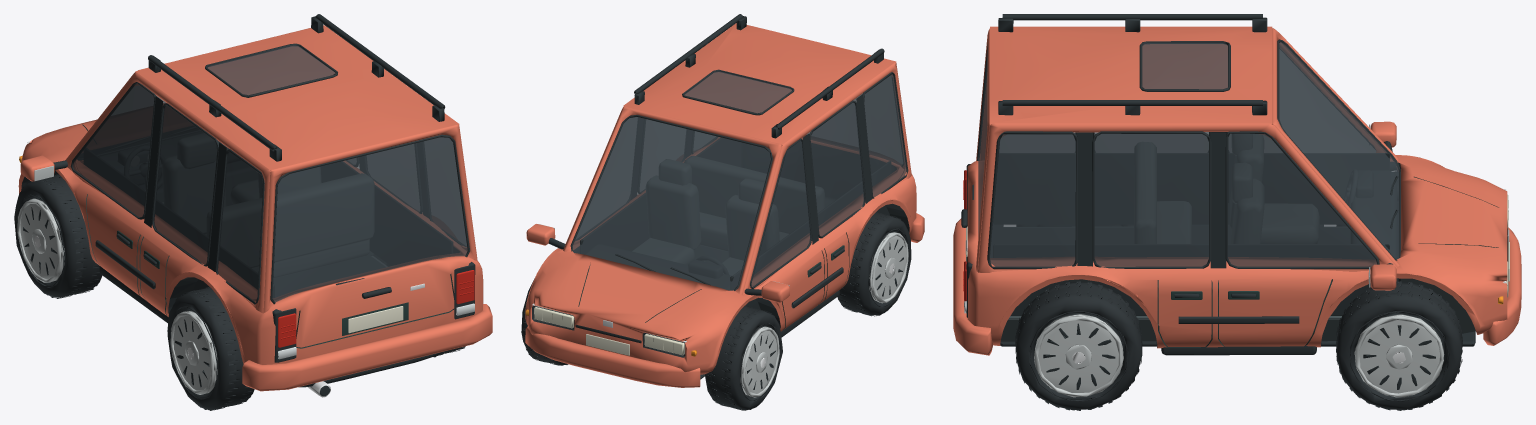
Rendered from picnic_lod2.fbx.
3 views of the same model, side by side, from view 1: azimuth 30°, elevation 25°; view 2: azimuth 150°, elevation 25°; view 3: azimuth 270°, elevation 25° (orthographic). The views are drawn at different scales.
Visible parts, largest first — view 1: Body, Wheel_FL_Mesh, Wheel_RL_Mesh; view 2: Body, Wheel_FL_Mesh, Wheel_RL_Mesh, Wheel_FR_Mesh; view 3: Body, Wheel_RR_Mesh, Wheel_FR_Mesh.
Part boxes in pixels (x1,y1,x2,y2): Body: [18, 14, 492, 397]; Wheel_FL_Mesh: [14, 174, 102, 298]; Wheel_RL_Mesh: [167, 286, 254, 410]; Body: [525, 14, 924, 387]; Wheel_FL_Mesh: [704, 306, 782, 410]; Wheel_RL_Mesh: [837, 212, 911, 316]; Wheel_FR_Mesh: [521, 278, 568, 365]; Body: [953, 14, 1521, 355]; Wheel_RR_Mesh: [1015, 281, 1142, 410]; Wheel_FR_Mesh: [1336, 281, 1462, 410].
Bounding box in the file's own units: 232 × 202 × 358.
